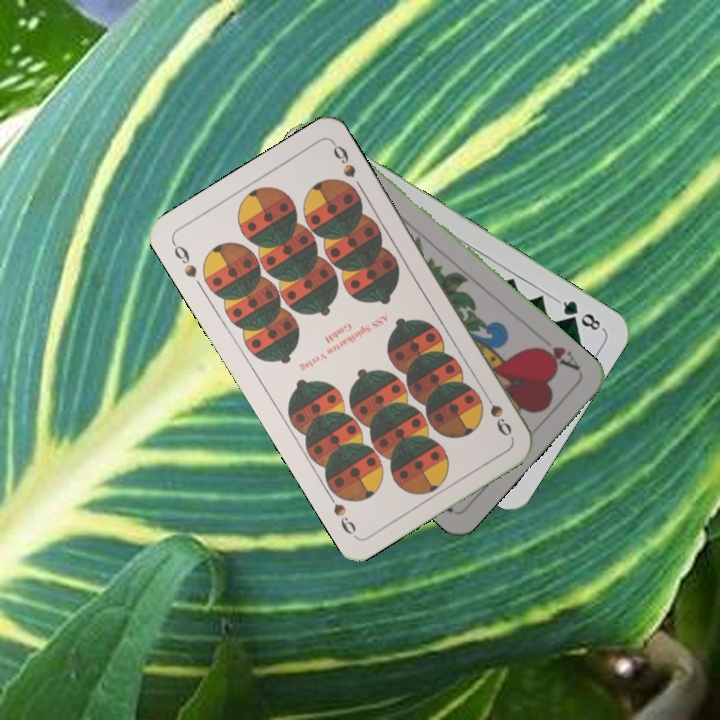G8: (553, 296, 606, 333)
HA: (530, 341, 583, 374)
S9: (478, 386, 515, 439), (168, 237, 200, 280)
